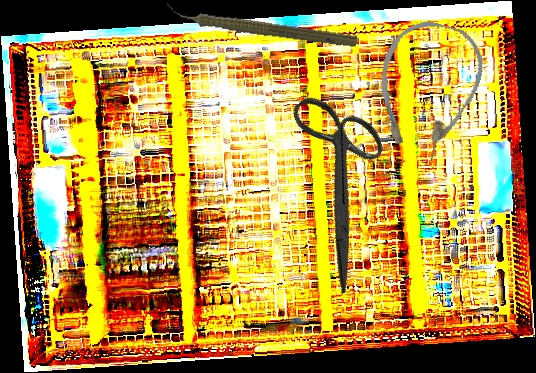Cannula: (362, 12, 492, 168)
Handpiece: (164, 1, 359, 51)
Iris Scissors: (235, 75, 443, 296)
